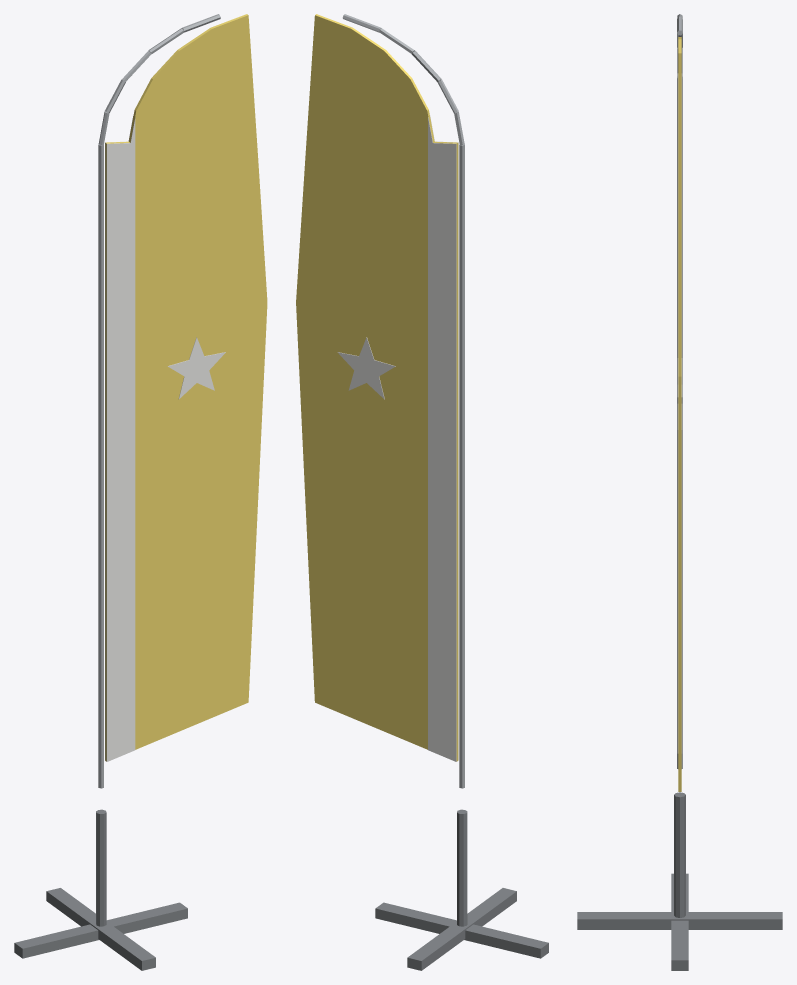
The model's file is flag_y.glb.
3 views of the same model, side by side, from view 1: azimuth 30°, elevation 25°; view 2: azimuth 150°, elevation 25°; view 3: azimuth 270°, elevation 25° (orthographic). The views are drawn at different scales.
Parts seen in each view (by area): view 1: flag_y_flag_y, flag_y_paint_w, flag_y_steel_d, flag_y_steel; view 2: flag_y_flag_y, flag_y_paint_w, flag_y_steel_d, flag_y_steel; view 3: flag_y_steel_d, flag_y_flag_y, flag_y_paint_w, flag_y_steel.
Part boxes in pixels (bbox=[...]): flag_y_flag_y: bbox=[105, 14, 267, 761]; flag_y_paint_w: bbox=[105, 116, 225, 761]; flag_y_steel_d: bbox=[14, 809, 187, 970]; flag_y_steel: bbox=[98, 14, 220, 788]; flag_y_flag_y: bbox=[296, 14, 458, 761]; flag_y_paint_w: bbox=[337, 115, 458, 761]; flag_y_steel_d: bbox=[375, 809, 548, 970]; flag_y_steel: bbox=[342, 14, 464, 788]; flag_y_steel_d: bbox=[577, 792, 782, 970]; flag_y_flag_y: bbox=[678, 37, 681, 791]; flag_y_paint_w: bbox=[677, 73, 682, 753]; flag_y_steel: bbox=[677, 14, 682, 768].
Size of the model in its own units: 1.05 by 3.61 by 0.7.
